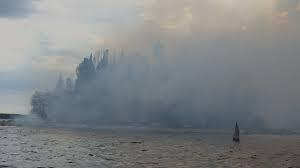yanwu: (1, 1, 300, 150)
